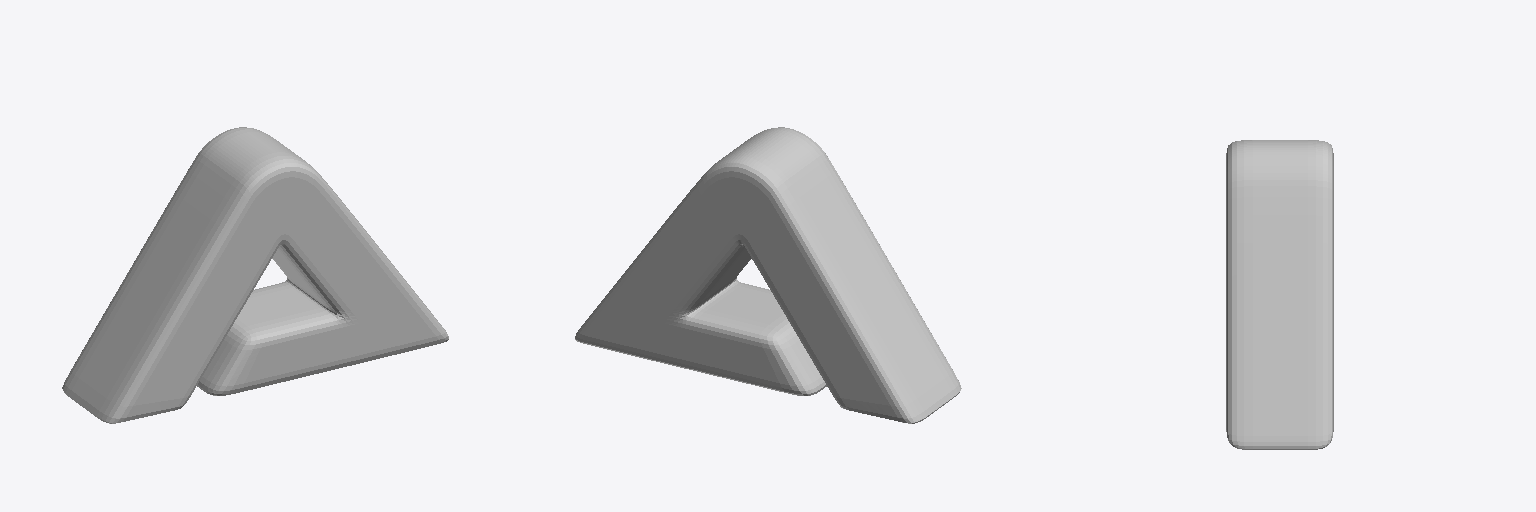
The picture shows the model from 3 angles: view 1: azimuth 30°, elevation 25°; view 2: azimuth 150°, elevation 25°; view 3: azimuth 270°, elevation 25°; orthographic projection.
Parts seen in each view (by area): view 1: polySurface18 text2FixedOneObjectNewNoHistory:pasted__T1; view 2: polySurface18 text2FixedOneObjectNewNoHistory:pasted__T1; view 3: polySurface18 text2FixedOneObjectNewNoHistory:pasted__T1.
Boxes of the visible parts, x1,y1,x2,y2 form: polySurface18 text2FixedOneObjectNewNoHistory:pasted__T1: [62, 127, 448, 423]; polySurface18 text2FixedOneObjectNewNoHistory:pasted__T1: [575, 127, 961, 423]; polySurface18 text2FixedOneObjectNewNoHistory:pasted__T1: [1226, 140, 1333, 449].
Bounding box in the file's own units: 630 × 390 × 170.